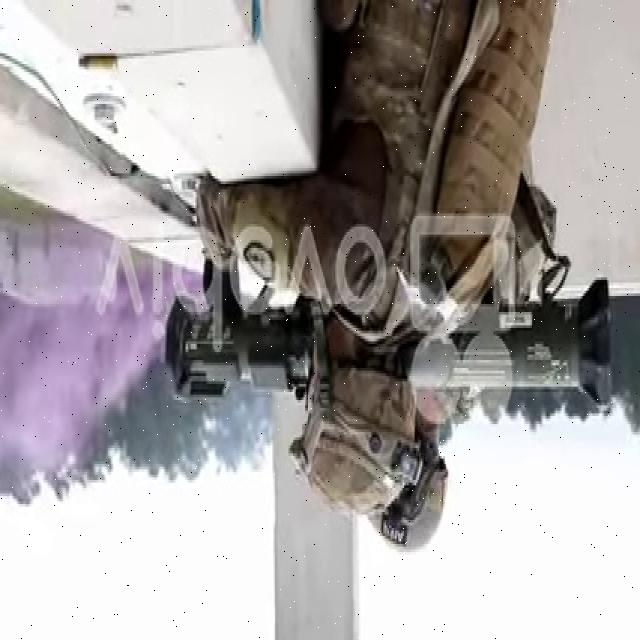bazooka: (161, 275, 615, 417)
